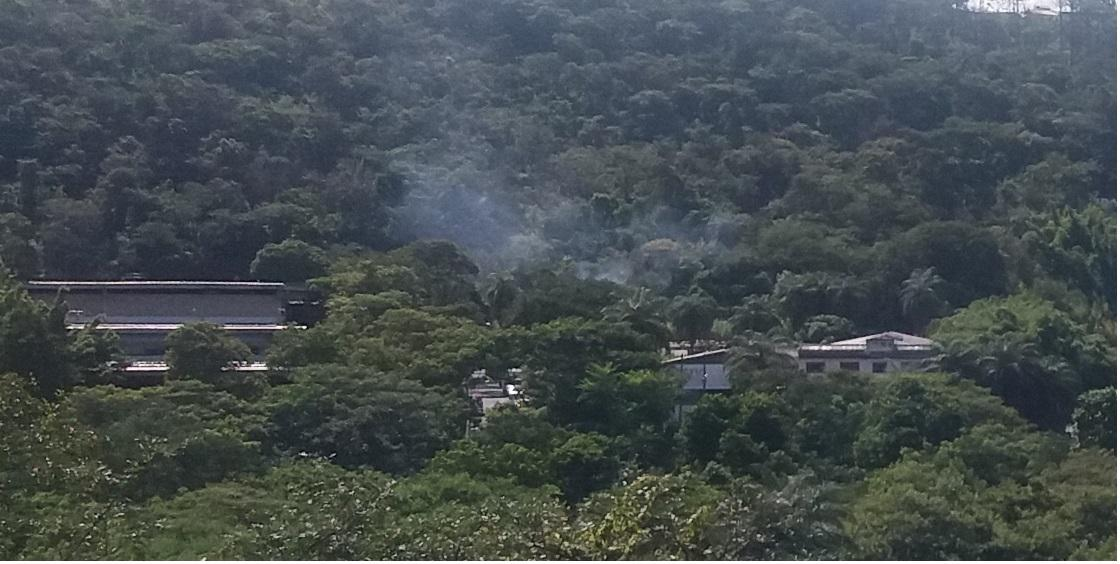smoke: (403, 184, 541, 233)
